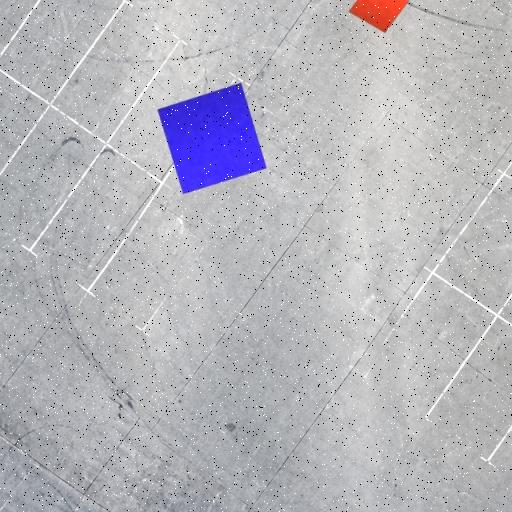BLUE_SQUARE: (157, 82, 267, 194)
RED_SQUARE: (348, 0, 412, 34)
